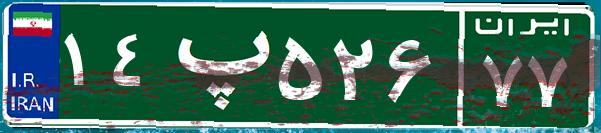1: (57, 26, 110, 107)
2: (330, 28, 385, 110)
4: (110, 28, 158, 105)
5: (273, 28, 330, 110)
6: (385, 28, 445, 110)
7: (475, 38, 525, 113), (525, 38, 570, 115)
پ: (158, 15, 273, 115)
